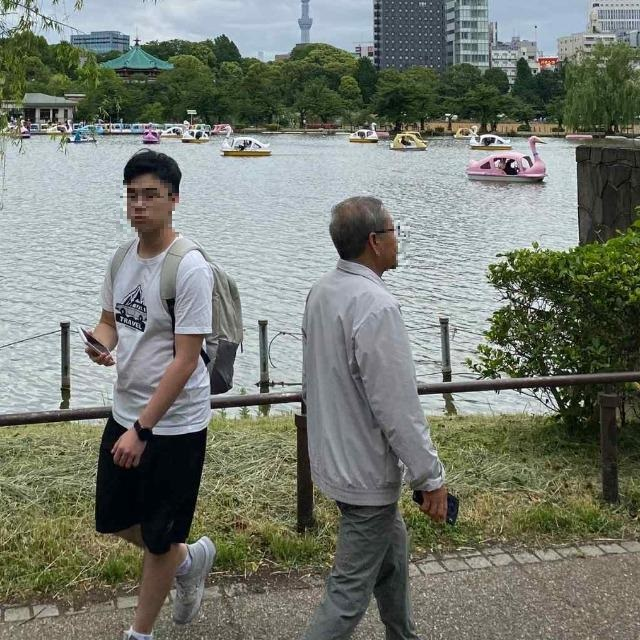NoHelmet: (328, 195, 403, 271), (122, 149, 188, 234)
NoVest: (297, 268, 422, 501), (99, 237, 217, 435)
